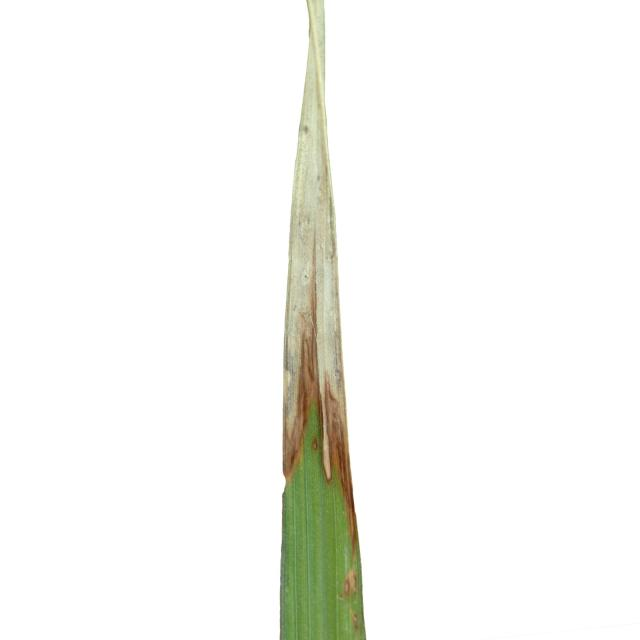Leaf scald: (219, 3, 401, 640)
